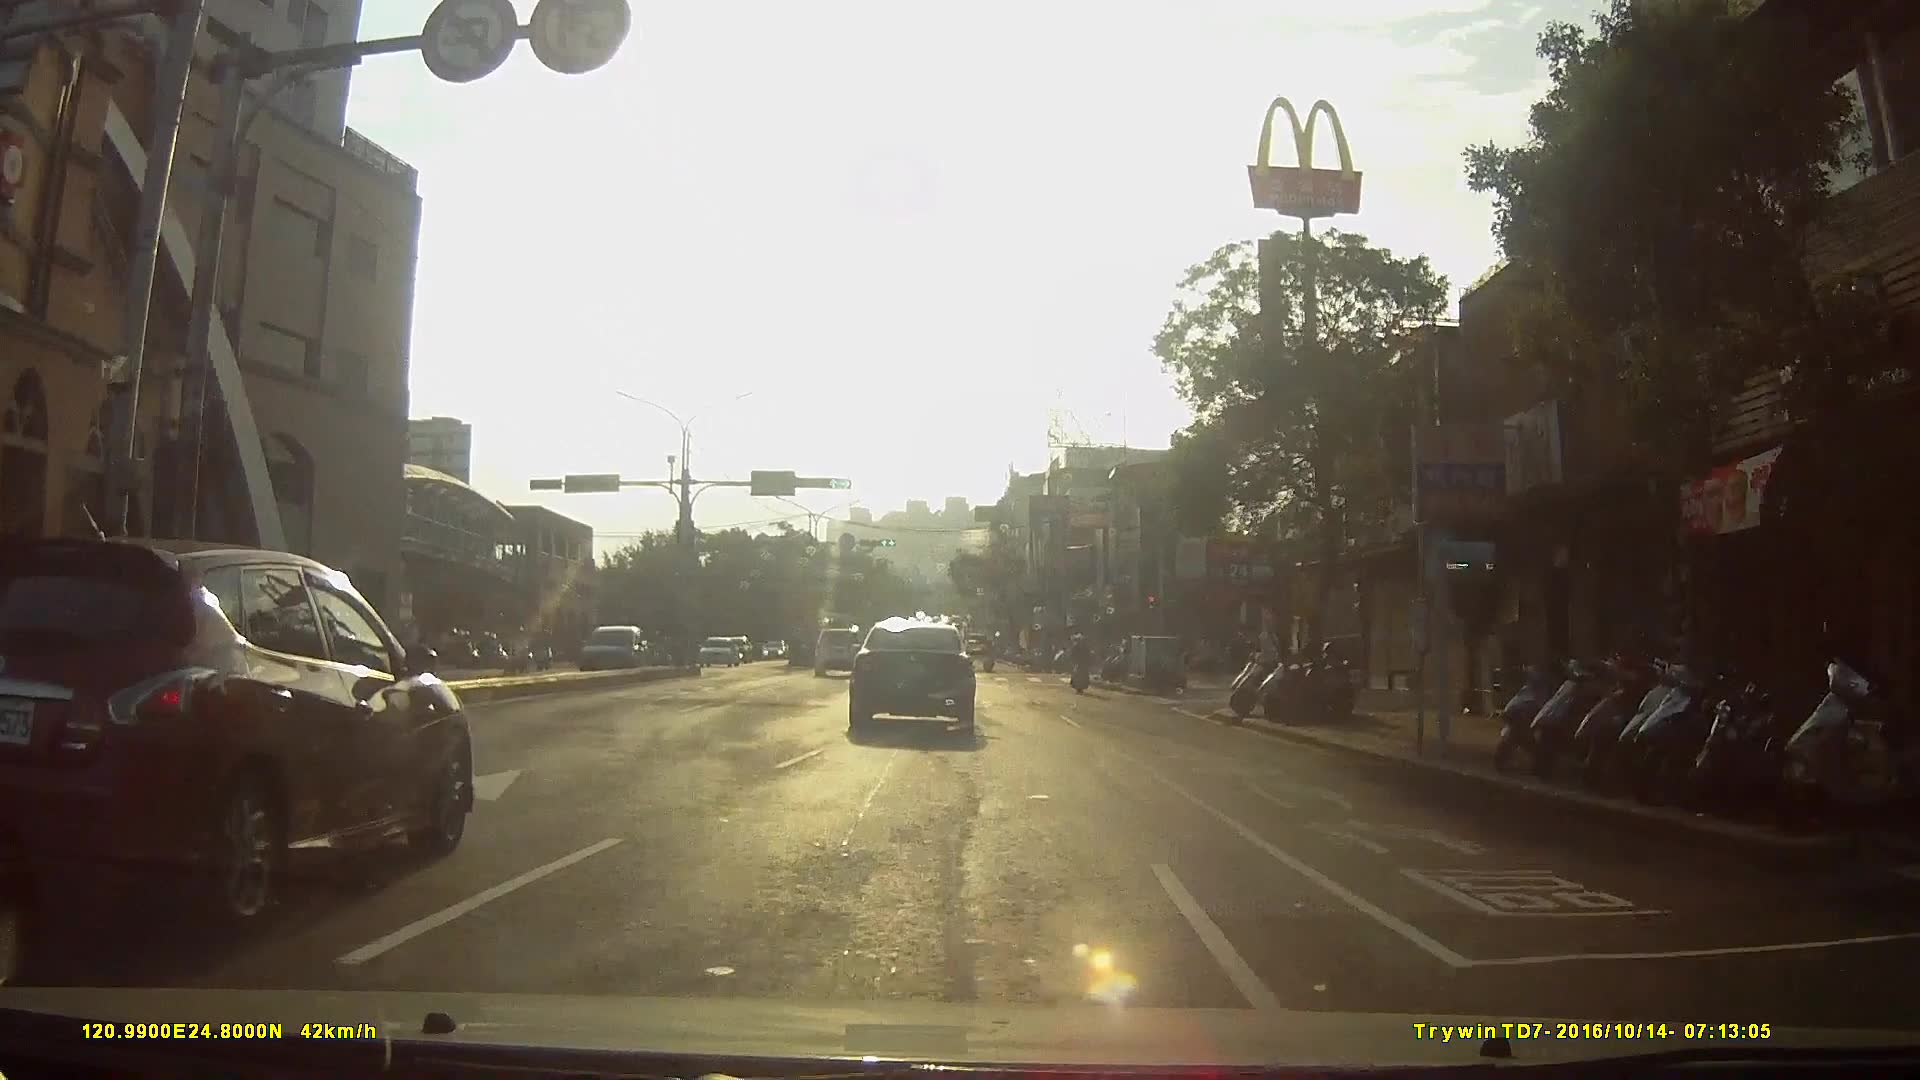rider: (1070, 628, 1095, 695), (979, 639, 999, 675)
vehicle: (1, 527, 485, 939), (845, 610, 991, 734), (567, 621, 657, 676), (810, 623, 867, 678), (694, 631, 743, 669), (711, 633, 755, 663)
